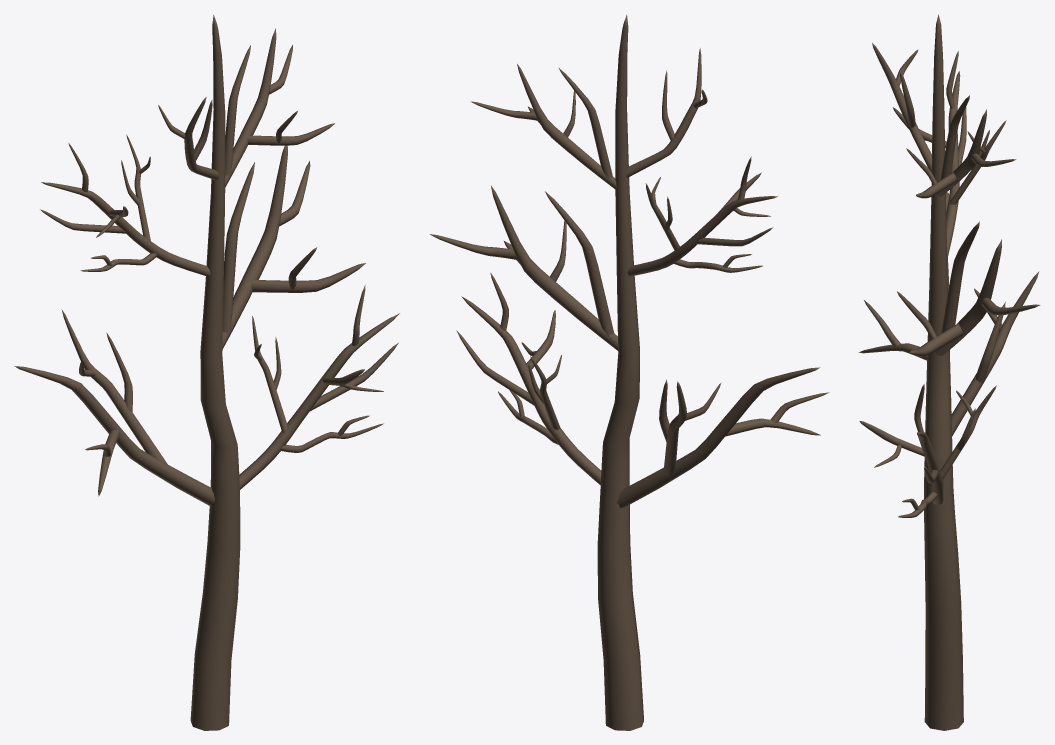
File: deadtree-2.glb
3 views of the same model, side by side, from view 1: azimuth 30°, elevation 25°; view 2: azimuth 150°, elevation 25°; view 3: azimuth 270°, elevation 25° (orthographic).
Parts seen in each view (by area): view 1: DeadTree_2; view 2: DeadTree_2; view 3: DeadTree_2.
Part boxes in pixels (<box>): DeadTree_2: <box>14,15,399,730</box>; DeadTree_2: <box>430,14,829,730</box>; DeadTree_2: <box>858,14,1040,730</box>.
Size of the model in its own units: 3.42 by 6.2 by 1.45.
